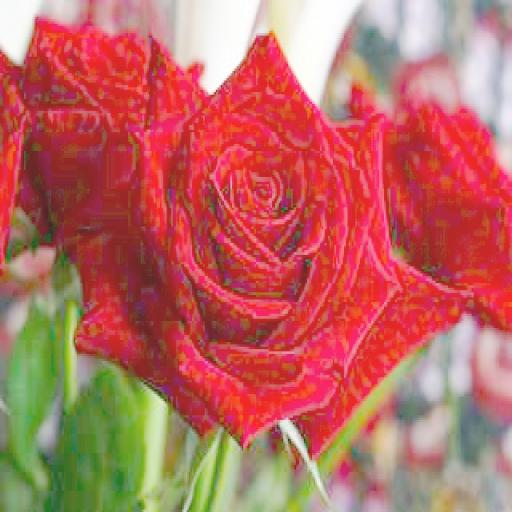rose: (83, 33, 475, 451)
